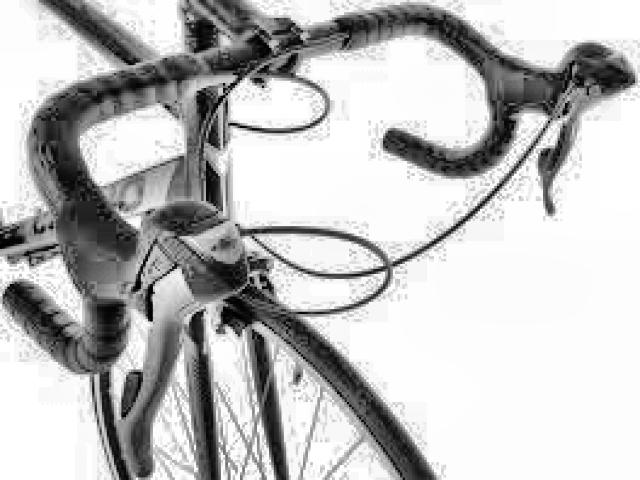sti_shifter: (114, 196, 250, 469), (535, 39, 638, 218)
